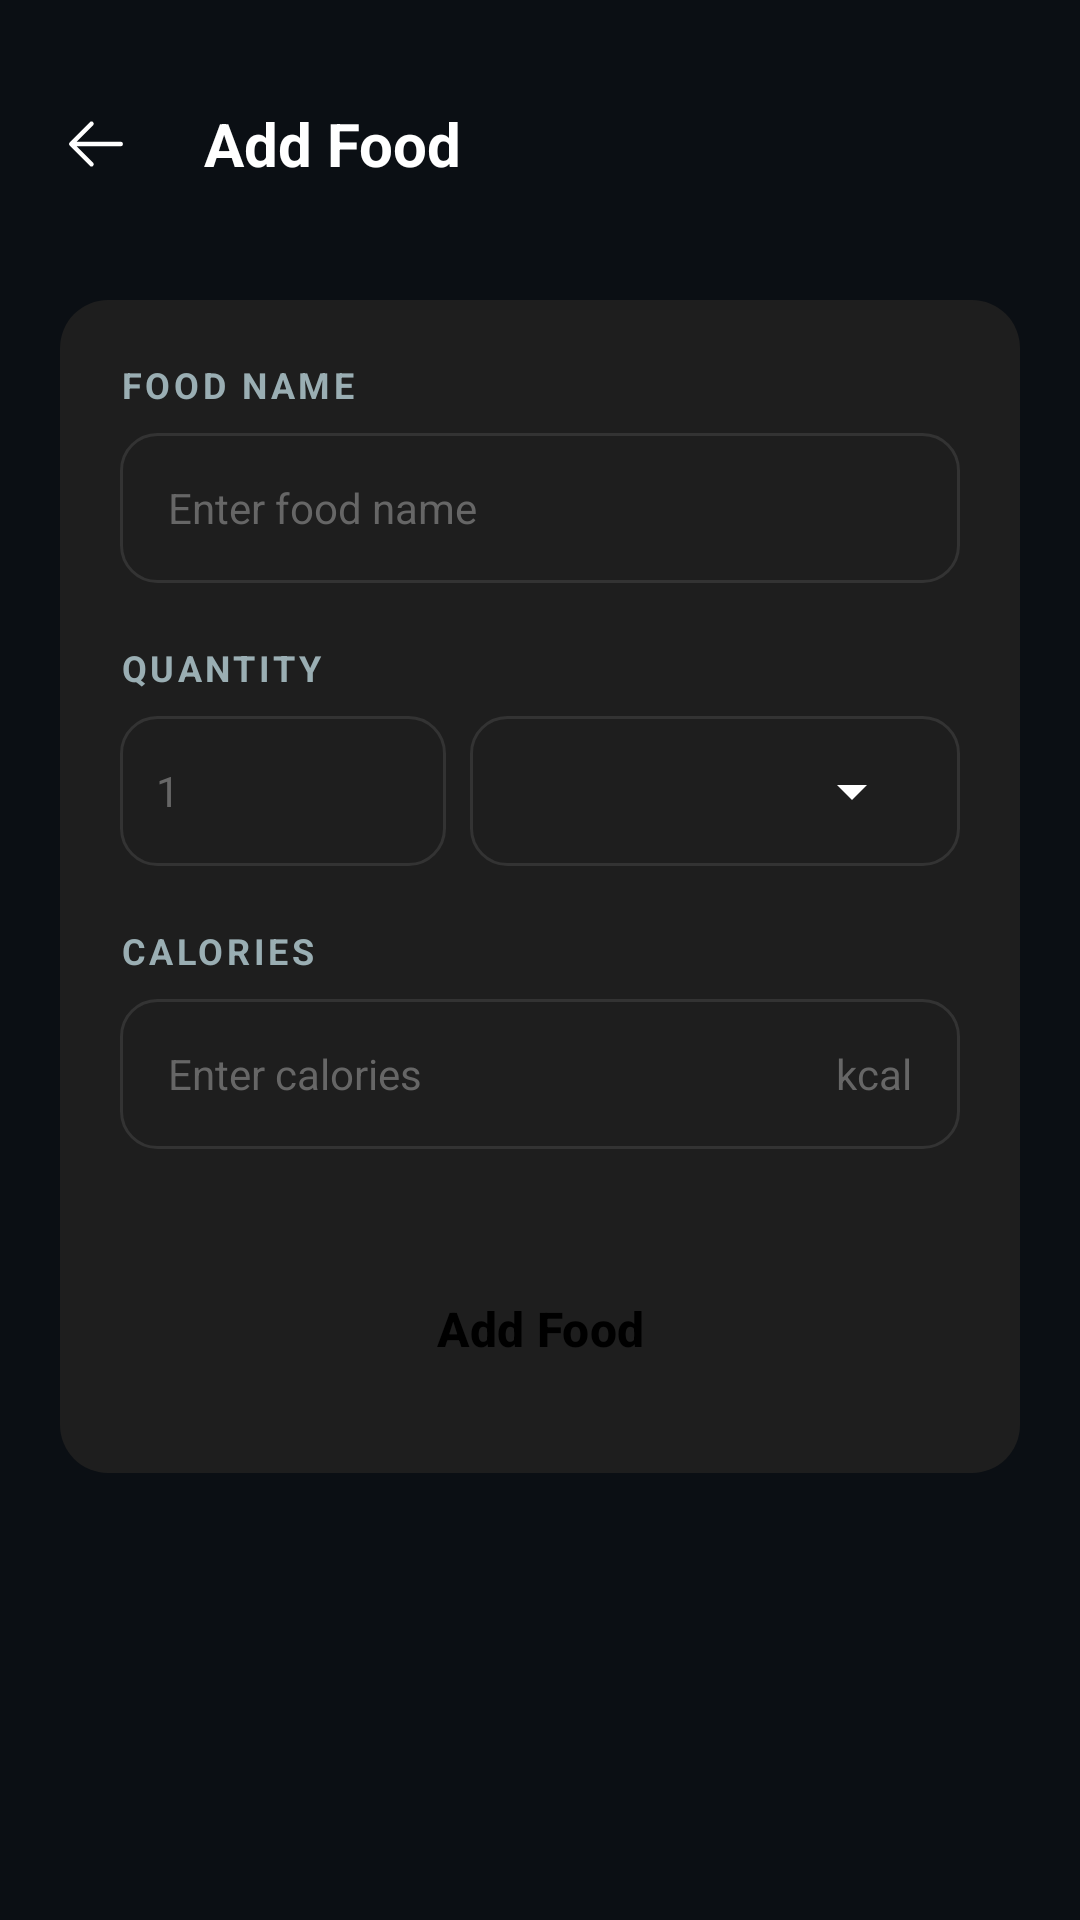

Locate icon controls on the screen. Image size 1080px x 1920px, boxes as {"left": x1, "top": y1, "right": x2, "bottom": y2}.
Back: {"left": 69, "top": 121, "right": 123, "bottom": 167}
